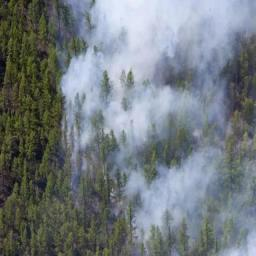Heavy smoke: (54, 0, 256, 255)
